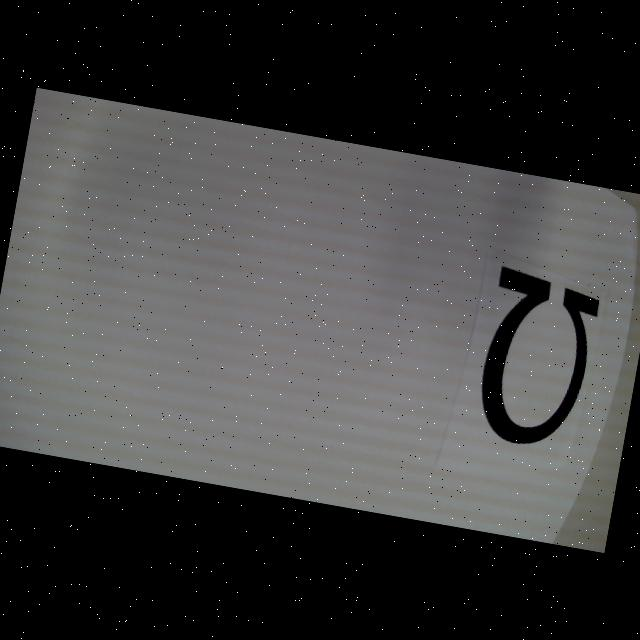OMEGA: (470, 266, 602, 452)
